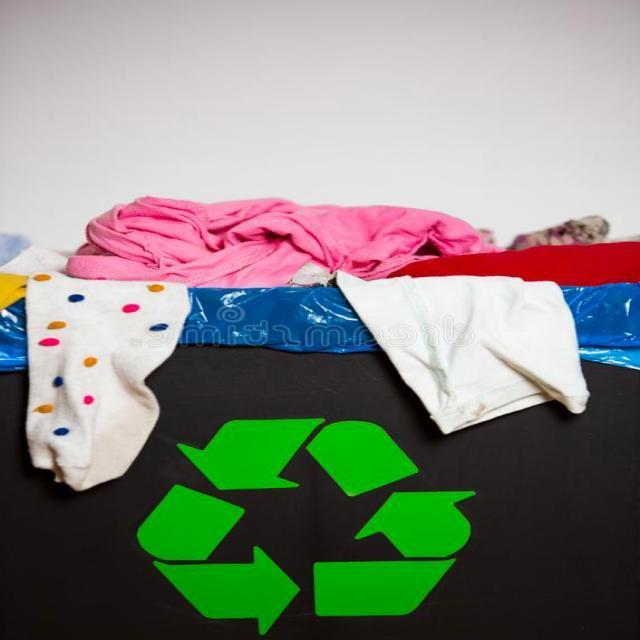clothes: (44, 204, 570, 282)
